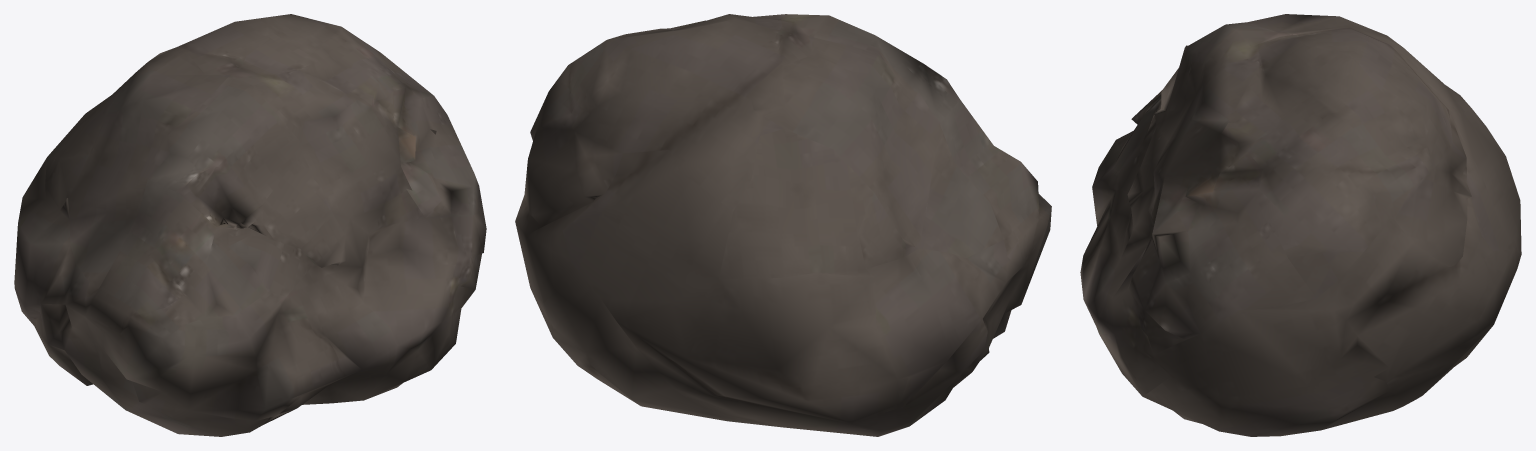
The model's file is stone.glb.
3 renders of one model, left to right at view 1: azimuth 30°, elevation 25°; view 2: azimuth 150°, elevation 25°; view 3: azimuth 270°, elevation 25°, orthographic. The views are drawn at different scales.
Parts seen in each view (by area): view 1: tripo_node_7ab4fa5d-9581-4aac-886c-582c1199e64b; view 2: tripo_node_7ab4fa5d-9581-4aac-886c-582c1199e64b; view 3: tripo_node_7ab4fa5d-9581-4aac-886c-582c1199e64b.
Boxes of the visible parts, left/top/right/bottom form: tripo_node_7ab4fa5d-9581-4aac-886c-582c1199e64b: left=14, top=14, right=486, bottom=436; tripo_node_7ab4fa5d-9581-4aac-886c-582c1199e64b: left=515, top=14, right=1051, bottom=436; tripo_node_7ab4fa5d-9581-4aac-886c-582c1199e64b: left=1080, top=14, right=1521, bottom=436.
Bounding box in the file's own units: 0.9967 × 0.7931 × 0.9031.
1 material, 1 textured.
